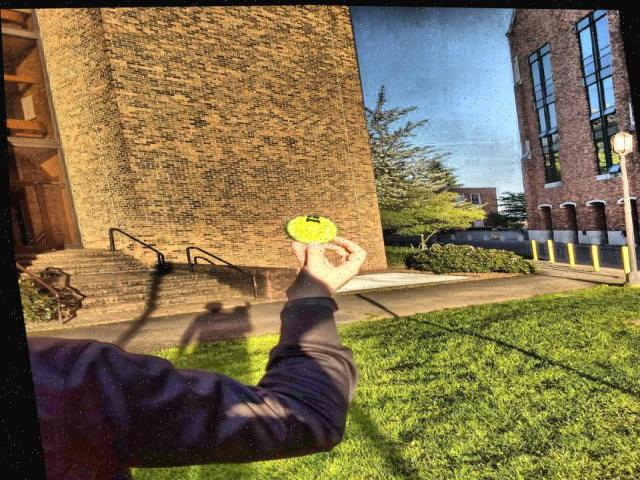tennis-ball: (286, 214, 338, 245)
